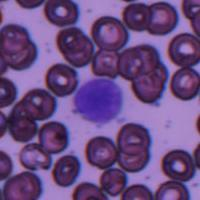L: (73, 77, 124, 124)
